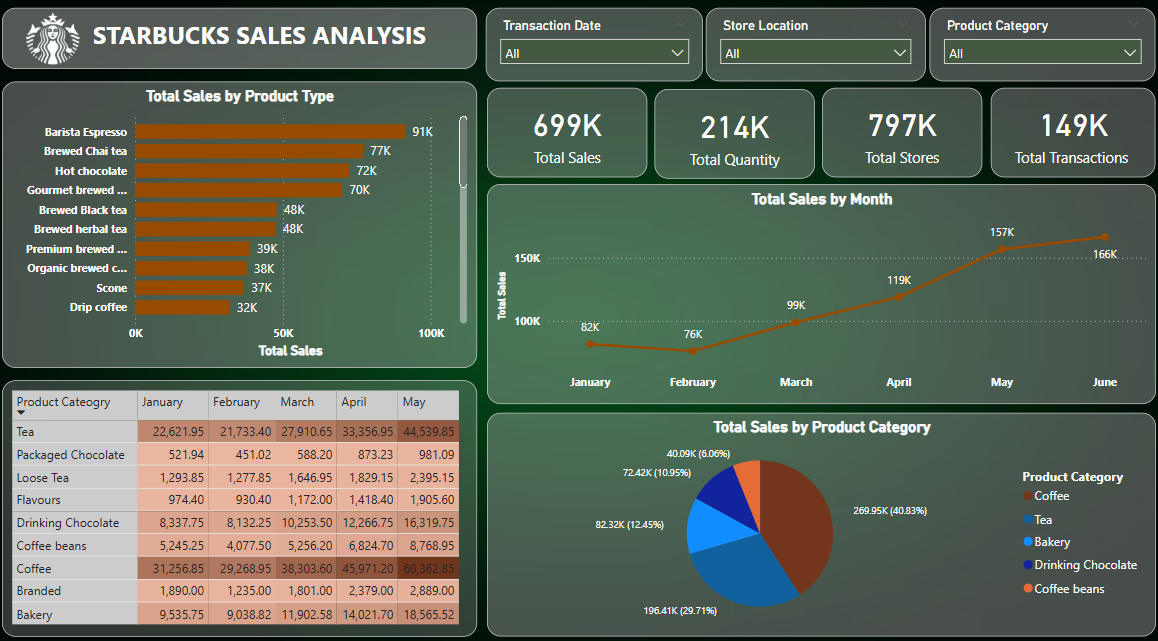

The dashboard page shown, as its layout file describes it:
{"tool":"powerbi","page":{"name":"Page 1","canvas":[1280,720],"ordinal":0},"visuals":[{"type":"textbox","box":[5.5,15.1,521.4,67.2],"z":0},{"type":"card","fields":{"Values":["Coffee Shop Sales.Total Sales"]},"box":[537.9,102.9,175.6,98.8],"z":1000},{"type":"lineChart","title":"Total Sales by Month","fields":{"Category":["Coffee Shop Sales.transaction_date.Variation.Date Hierarchy.Year","Coffee Shop Sales.transaction_date.Variation.Date Hierarchy.Quarter","Coffee Shop Sales.transaction_date.Variation.Date Hierarchy.Month","Coffee Shop Sales.transaction_date.Variation.Date Hierarchy.Day"],"Y":["Coffee Shop Sales.Total Sales"]},"box":[537.9,208.6,734.1,241.5],"z":2000},{"type":"clusteredBarChart","title":"Total Sales by Product Type","fields":{"Category":["Coffee Shop Sales.product_type"],"Y":["Coffee Shop Sales.Total Sales"]},"box":[5.5,96.1,521.4,314.2],"z":3000},{"type":"card","fields":{"Values":["Coffee Shop Sales.Total Quantity"]},"box":[721.8,104.3,175.6,98.8],"z":4000},{"type":"card","fields":{"Values":["Coffee Shop Sales.Total Revenue"]},"box":[905.7,102.9,175.6,98.8],"z":5000},{"type":"card","fields":{"Values":["Count(Coffee Shop Sales.transaction_id)"]},"box":[1090.9,102.9,181.1,98.8],"z":6000},{"type":"pieChart","title":"Total Sales by Product Category","fields":{"Y":["Coffee Shop Sales.Total Sales"],"Category":["Coffee Shop Sales.product_category"]},"box":[537.9,459.7,734.1,245.6],"z":7000},{"type":"pivotTable","fields":{"Rows":["Coffee Shop Sales.product_category"],"Values":["Coffee Shop Sales.Total Sales"],"Columns":["Coffee Shop Sales.transaction_date.Variation.Date Hierarchy.Month"]},"box":[5.5,424,521.4,281.3],"z":8000},{"type":"slicer","fields":{"Values":["Coffee Shop Sales.transaction_date"]},"box":[536.5,15.1,238.8,81],"z":9000},{"type":"slicer","fields":{"Values":["Coffee Shop Sales.store_location"]},"box":[778,15.1,241.5,81],"z":10000},{"type":"slicer","fields":{"Values":["Coffee Shop Sales.Product Cateogry"]},"box":[1023.7,15.1,248.4,81],"z":11000},{"type":"image","box":[24.7,8.2,76.8,82.3],"z":12000}]}

Visuals, with their boxes in screenshot pixels (x1, y1, x2, y2), scaled from the page's 1280x720 canvas onto the 1158x641 screenshot:
textbox: <box>5,13,477,73</box>
card - Coffee Shop Sales.Total Sales: <box>487,92,645,180</box>
"Total Sales by Month" lineChart: <box>487,186,1151,401</box>
"Total Sales by Product Type" clusteredBarChart: <box>5,86,477,365</box>
card - Coffee Shop Sales.Total Quantity: <box>653,93,812,181</box>
card - Coffee Shop Sales.Total Revenue: <box>819,92,978,180</box>
card - Count(Coffee Shop Sales.transaction_id): <box>987,92,1151,180</box>
"Total Sales by Product Category" pieChart: <box>487,409,1151,628</box>
pivotTable - Coffee Shop Sales.product_category x Coffee Shop Sales.Total Sales: <box>5,377,477,628</box>
slicer - Coffee Shop Sales.transaction_date: <box>485,13,701,86</box>
slicer - Coffee Shop Sales.store_location: <box>704,13,922,86</box>
slicer - Coffee Shop Sales.Product Cateogry: <box>926,13,1151,86</box>
image: <box>22,7,92,81</box>
